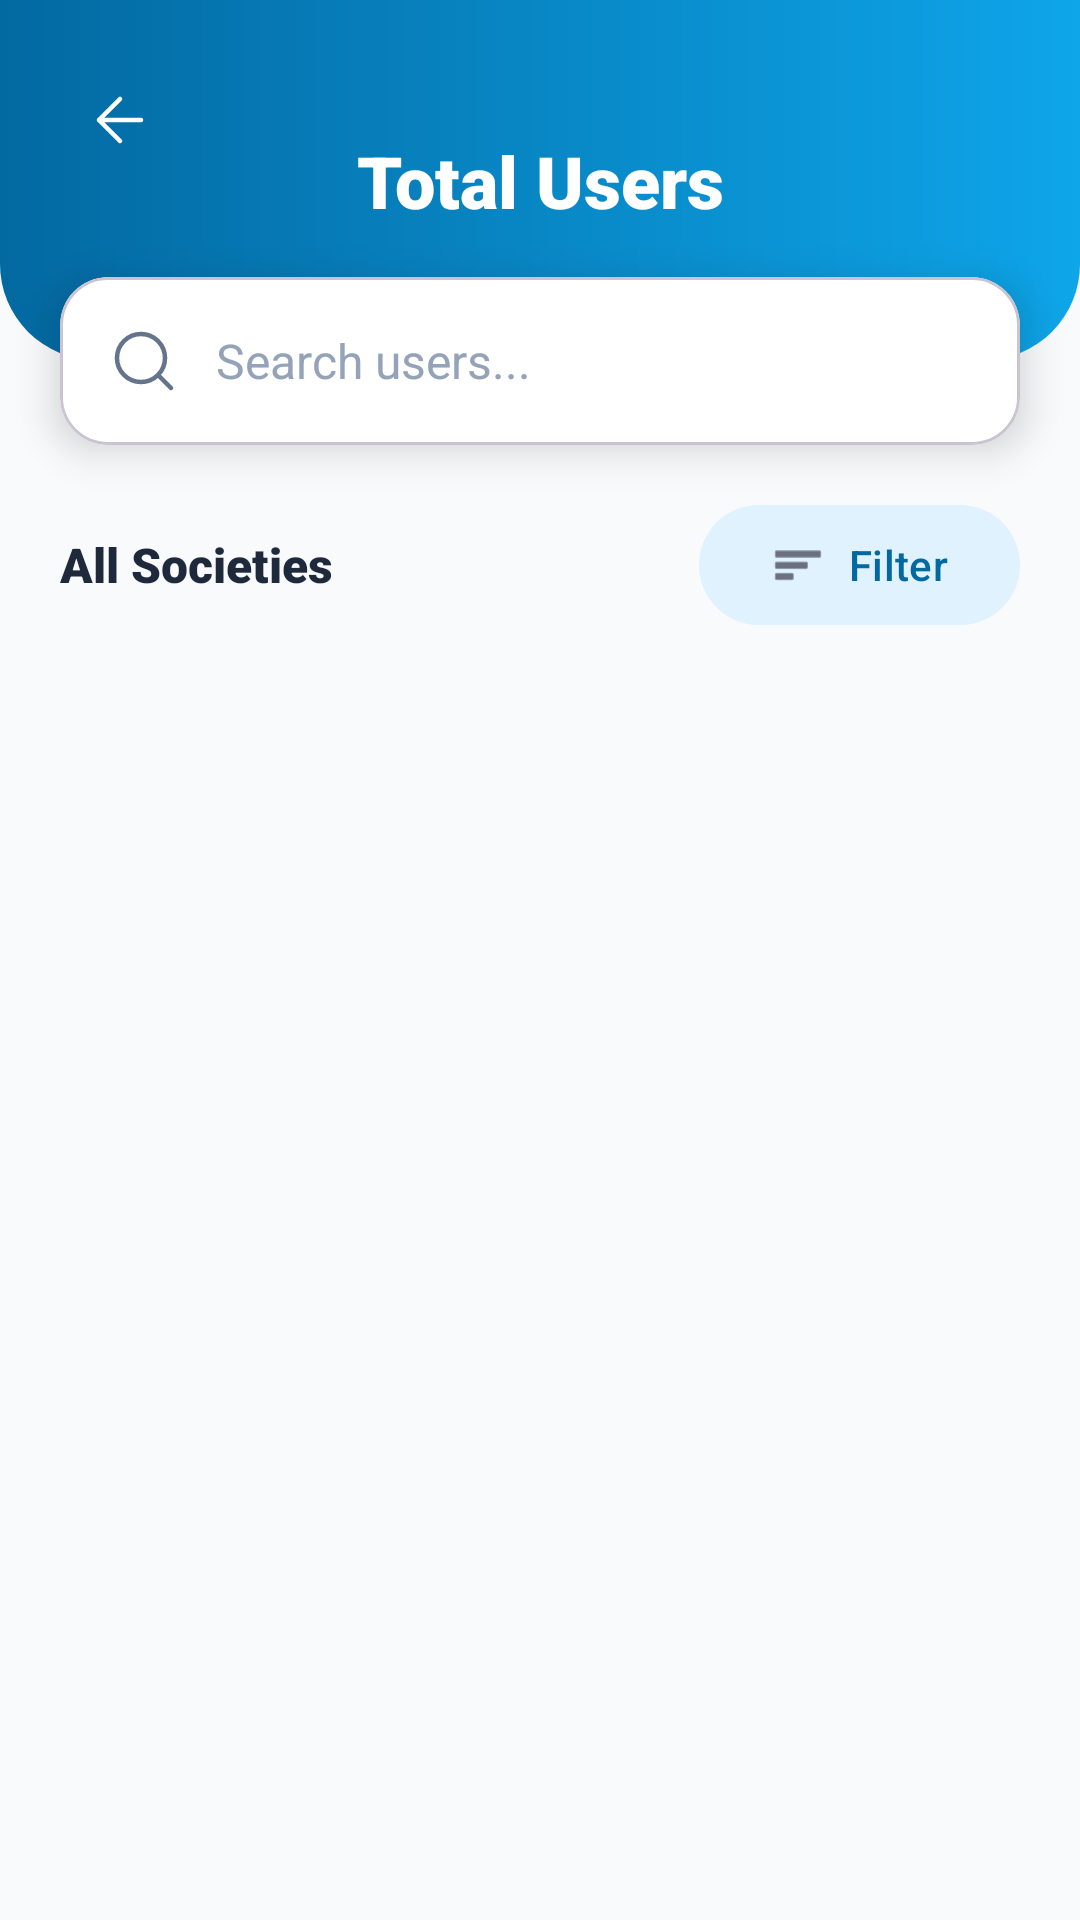

Screen size 1080px×1920px. Icon name, then its center in pixels as [x,y]:
back premium: [119,120]
search premium: [143,361]
